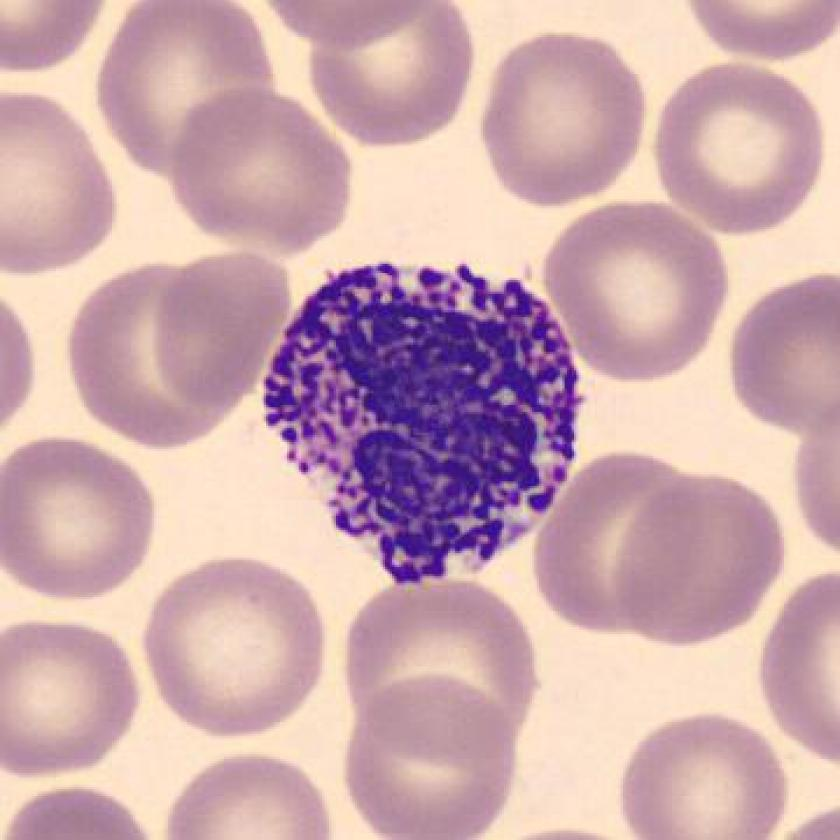basophil: (251, 244, 610, 605)
